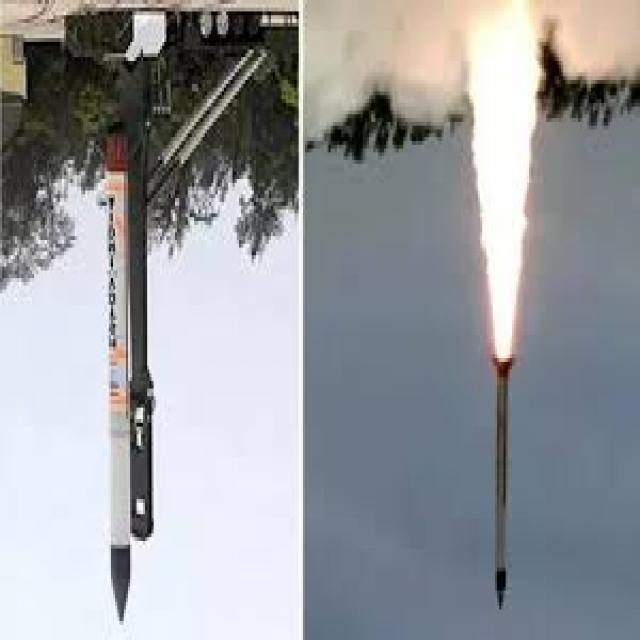Missile: (102, 163, 134, 631), (492, 342, 514, 616)
